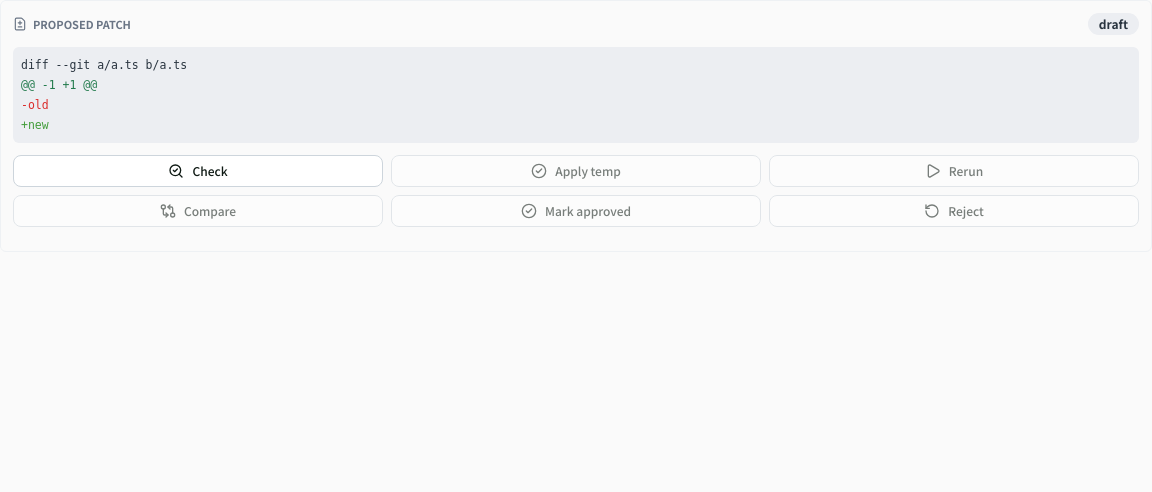
Test: RepairReviewPanel › requires a ready QMO summary before approving generated tests
This screenshot has width=1152, height=492.
Click the button "Check".
click(198, 171)  # box x1=13 y1=155 x2=383 y2=187
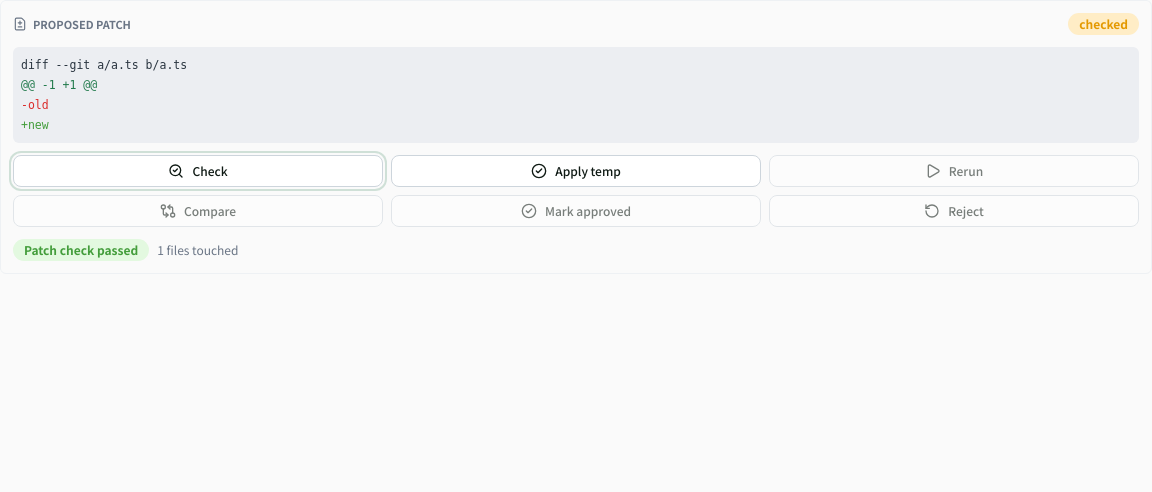
Click the button "Apply temp".
click(576, 171)  # box x1=391 y1=155 x2=761 y2=187
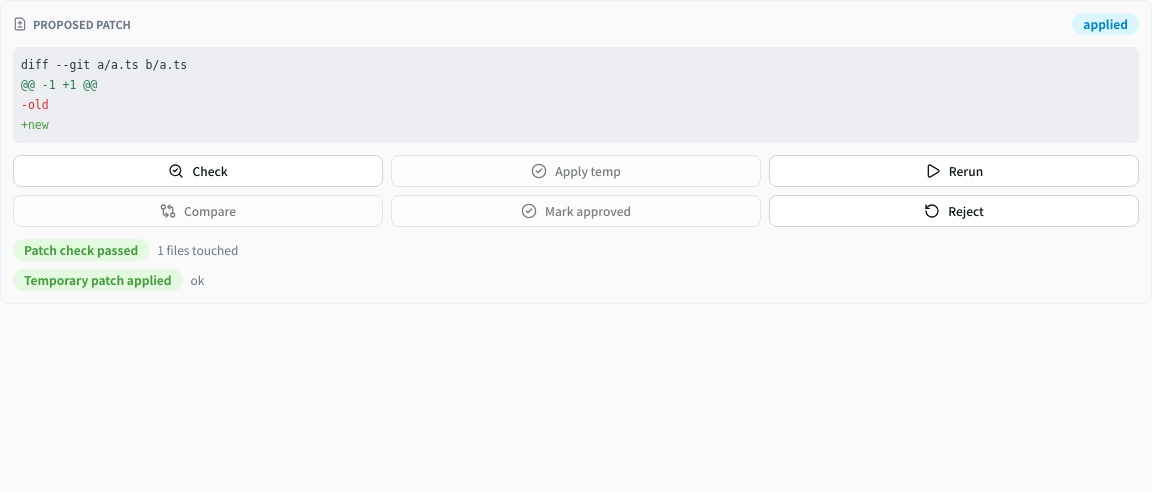
Click the button "Rerun".
click(954, 171)  # box x1=769 y1=155 x2=1139 y2=187
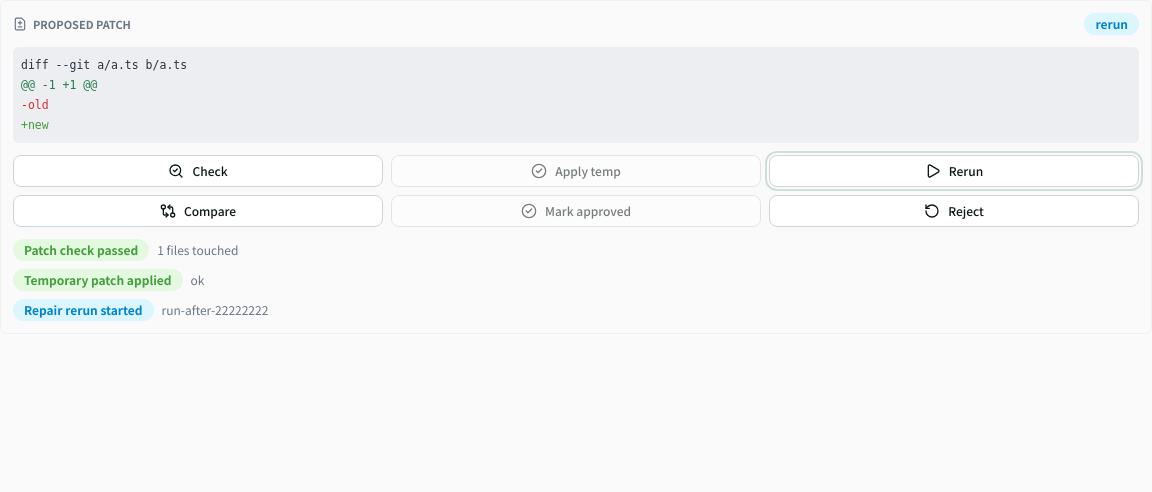
Click the button "Compare".
click(198, 211)  # box x1=13 y1=195 x2=383 y2=227
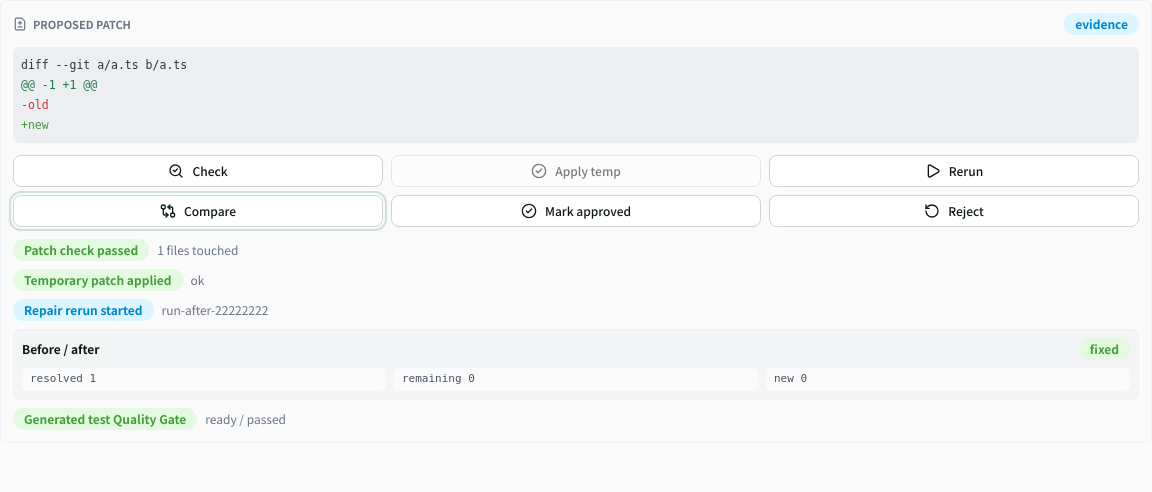
Result: the text "Generated test Quality Gate" is shown at x1=13 y1=408 x2=197 y2=430
Result: the text "ready / passed" is shown at x1=205 y1=411 x2=286 y2=427
Click the button "Mark approved".
click(576, 211)  # box x1=391 y1=195 x2=761 y2=227
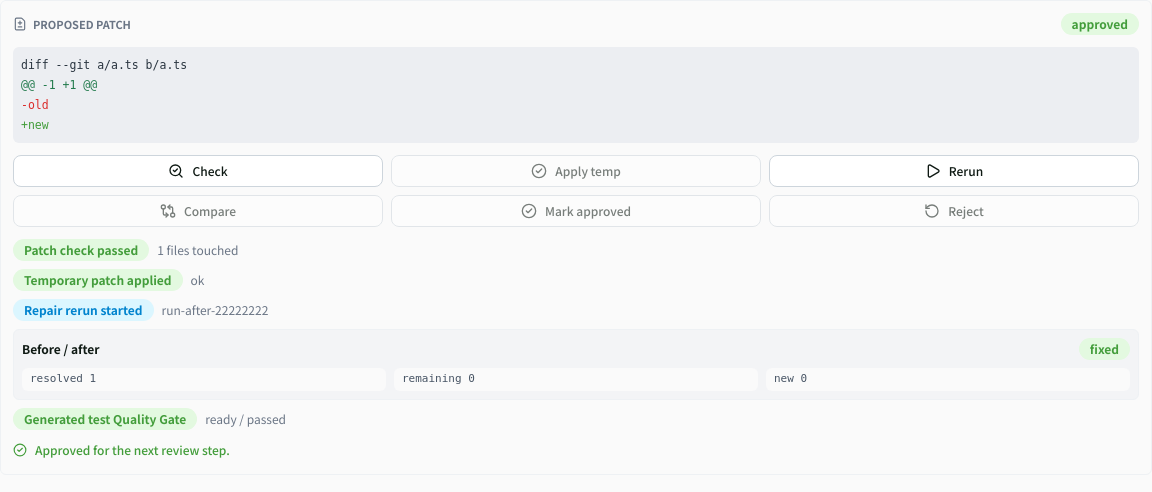
Result: the text "Approved for the next review step." is shown at x1=13 y1=442 x2=230 y2=458
